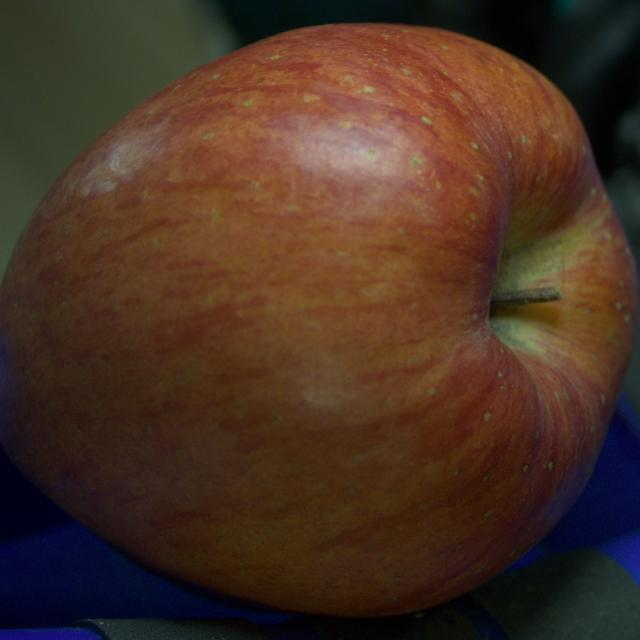apple: (0, 27, 636, 616)
